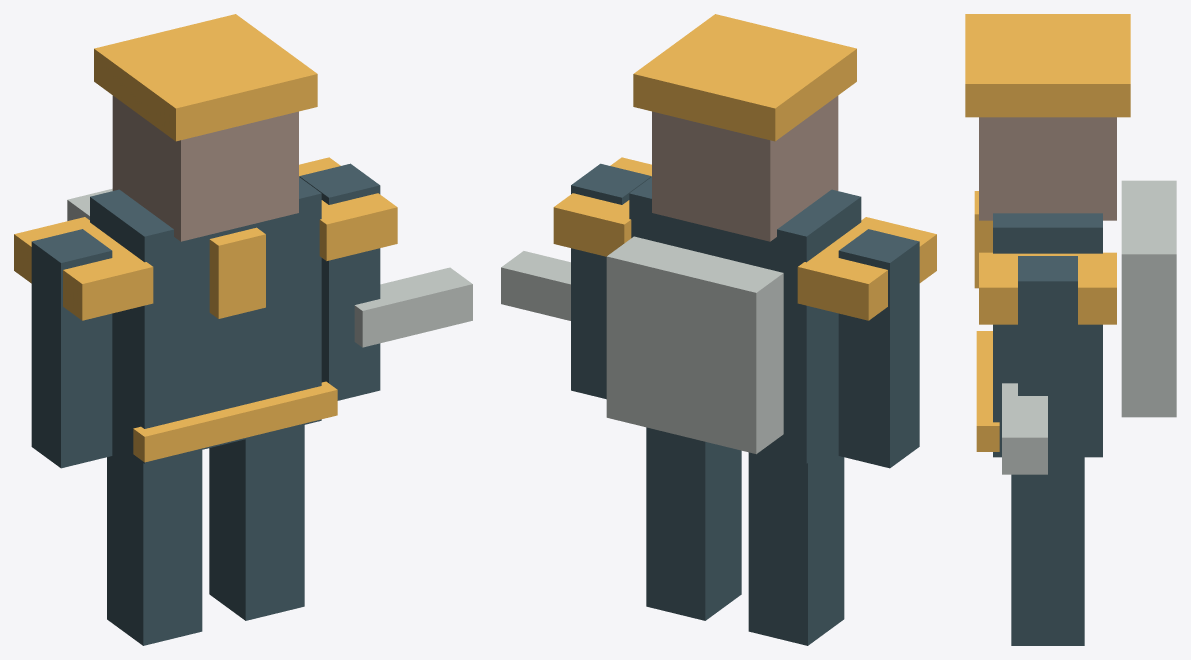
The model's file is 06_auren_emberkin_scout_from_emergency.glb.
3 renders of one model, left to right at view 1: azimuth 30°, elevation 25°; view 2: azimuth 150°, elevation 25°; view 3: azimuth 270°, elevation 25°, orthographic.
Visible parts, largest first — view 1: Auren Emberkin, Scout from Emergency; view 2: Auren Emberkin, Scout from Emergency; view 3: Auren Emberkin, Scout from Emergency.
Part boxes in pixels (x1,y1,x2,y2): Auren Emberkin, Scout from Emergency: (14,14,472,645); Auren Emberkin, Scout from Emergency: (501,14,936,645); Auren Emberkin, Scout from Emergency: (965,14,1176,645).
Bounding box in the file's own units: 1.09 × 1.43 × 0.4905.
